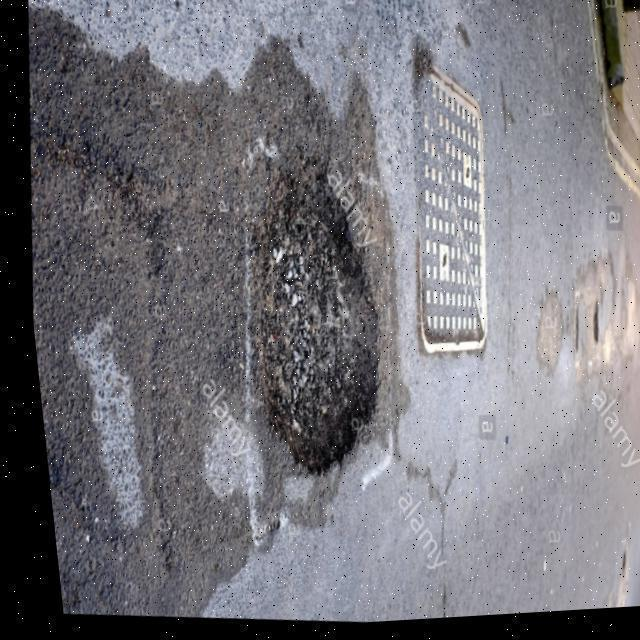Pothole: (250, 178, 392, 482)
